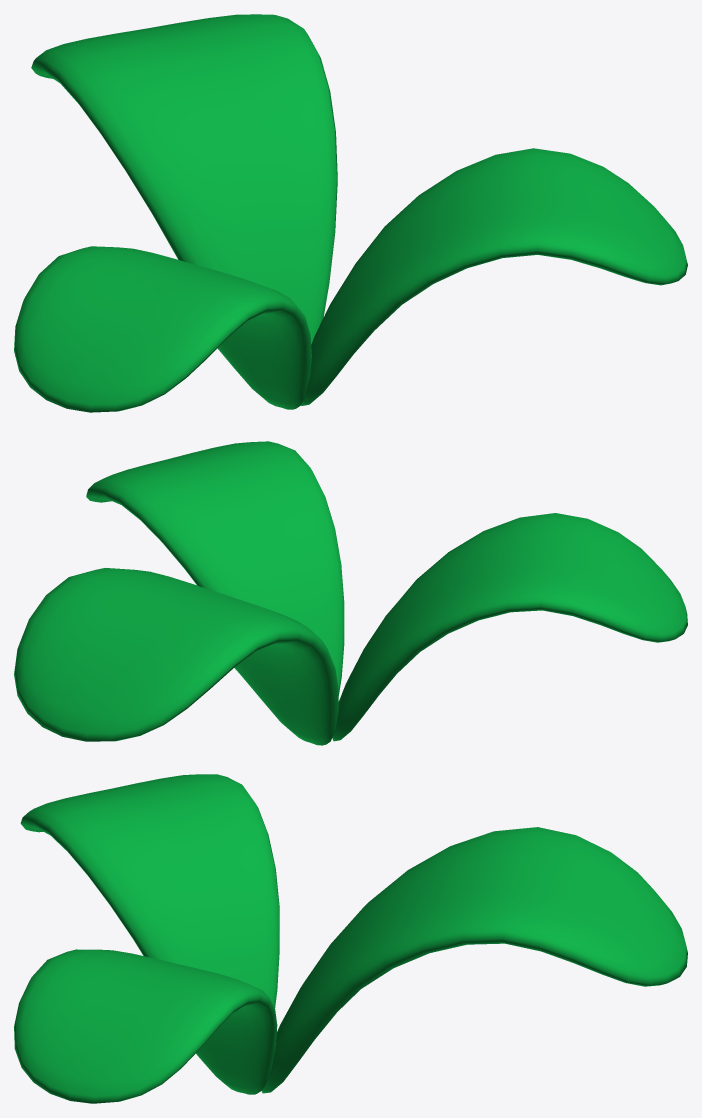
The model's file is City_17_Plant_2.glb.
3 views of the same model, one above another, from view 1: azimuth 30°, elevation 25°; view 2: azimuth 150°, elevation 25°; view 3: azimuth 270°, elevation 25° (orthographic). The views are drawn at different scales.
Parts seen in each view (by area): view 1: City_17_Plant_2; view 2: City_17_Plant_2; view 3: City_17_Plant_2.
Part boxes in pixels (bbox=[...]): City_17_Plant_2: bbox=[14, 14, 687, 412]; City_17_Plant_2: bbox=[14, 441, 687, 745]; City_17_Plant_2: bbox=[14, 774, 687, 1103].
Bounding box in the file's own units: 0.4319 × 0.1605 × 0.4187.
Materials: 1 (1 with a texture image).
